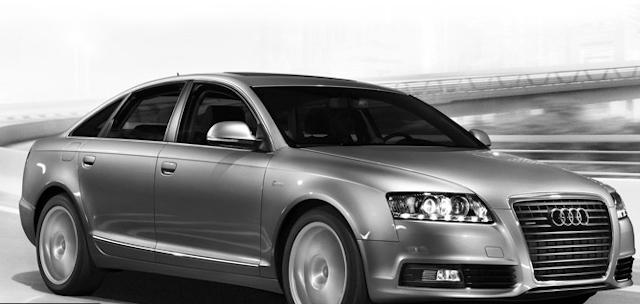car: (16, 67, 639, 304)
